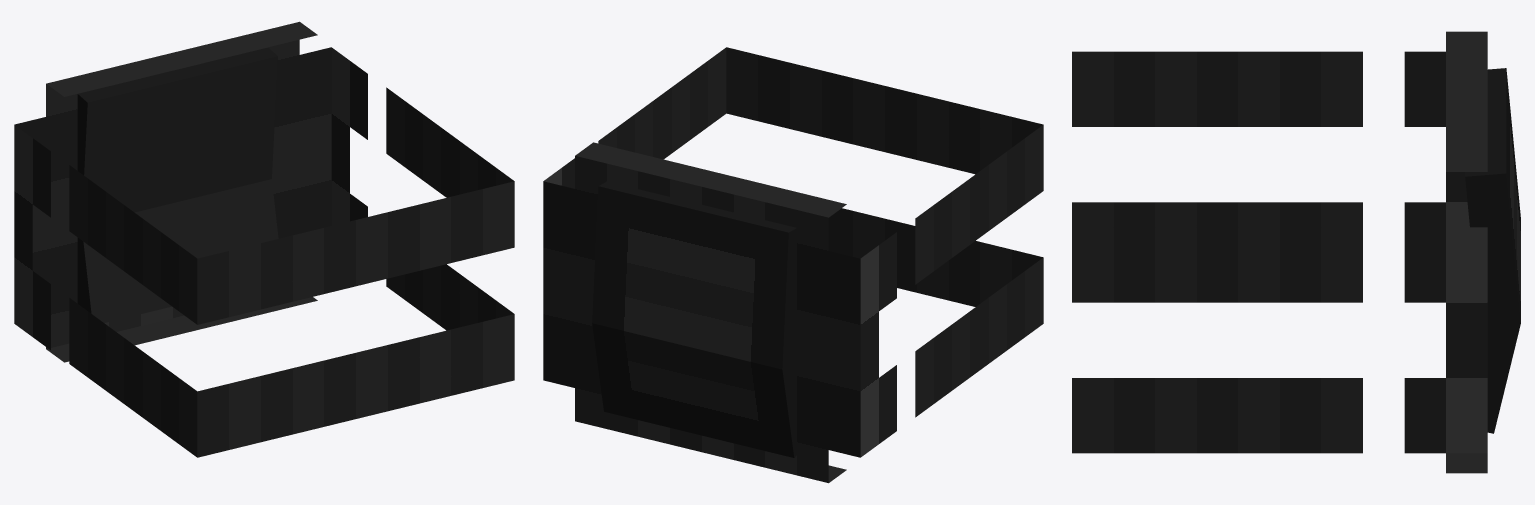
The model's file is ghost_p_r.obj.
The picture shows the model from 3 angles, left to right: view 1: azimuth 30°, elevation 25°; view 2: azimuth 150°, elevation 25°; view 3: azimuth 270°, elevation 25°; orthographic projection. The views are drawn at different scales.
Parts seen in each view (by area): view 1: mesh; view 2: mesh; view 3: mesh.
Part boxes in pixels (<box>): mesh: <box>14,21,514,457</box>; mesh: <box>543,47,1043,483</box>; mesh: <box>1072,31,1520,473</box>.
Bounding box in the file's own units: 0.3125 × 0.25 × 0.3375.
